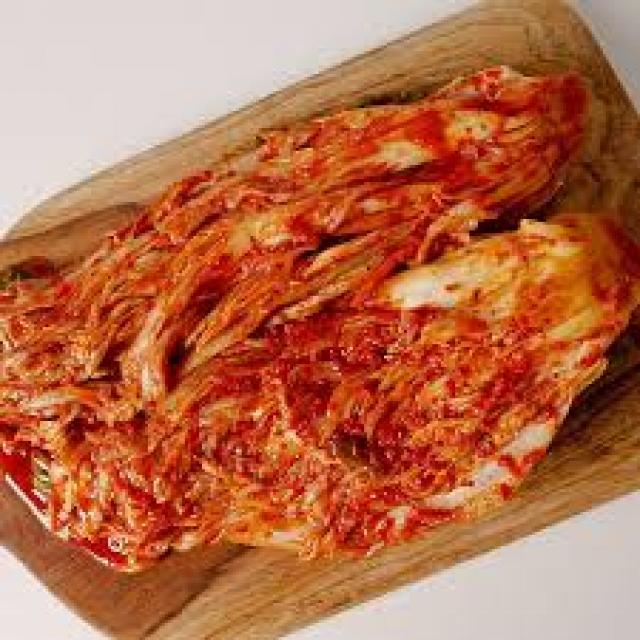kimchi: (172, 182, 542, 518)
